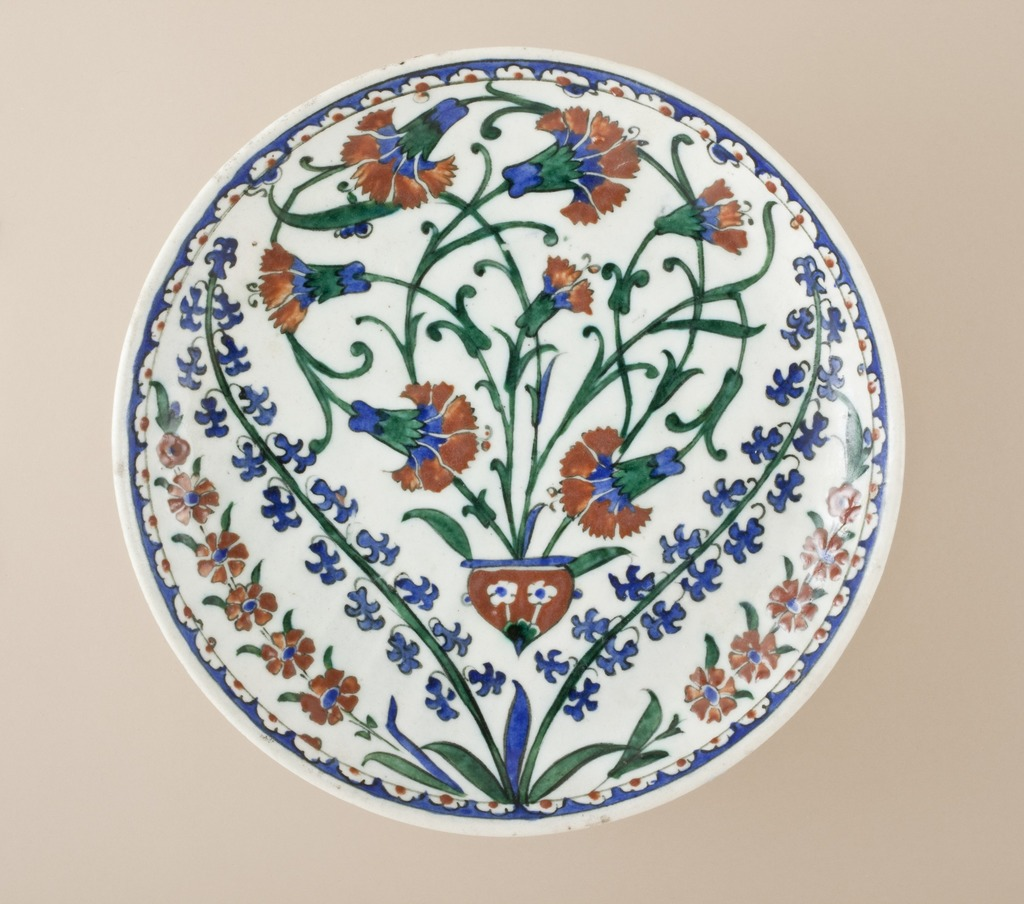plate: (123, 46, 917, 794)
